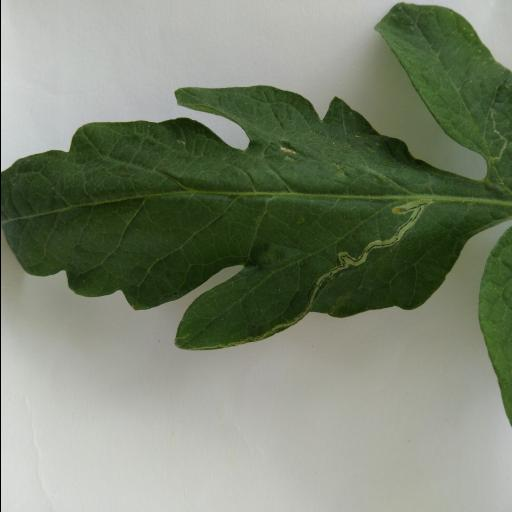disease_tomato: (0, 84, 478, 354)
